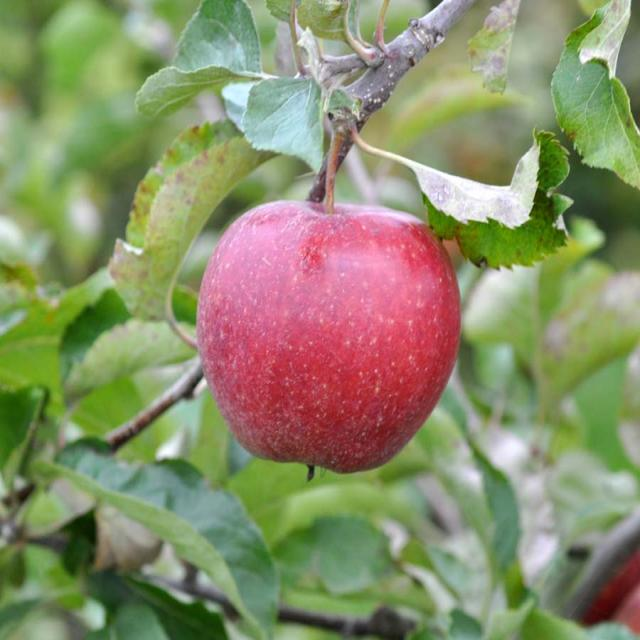Apple: (193, 194, 463, 476)
